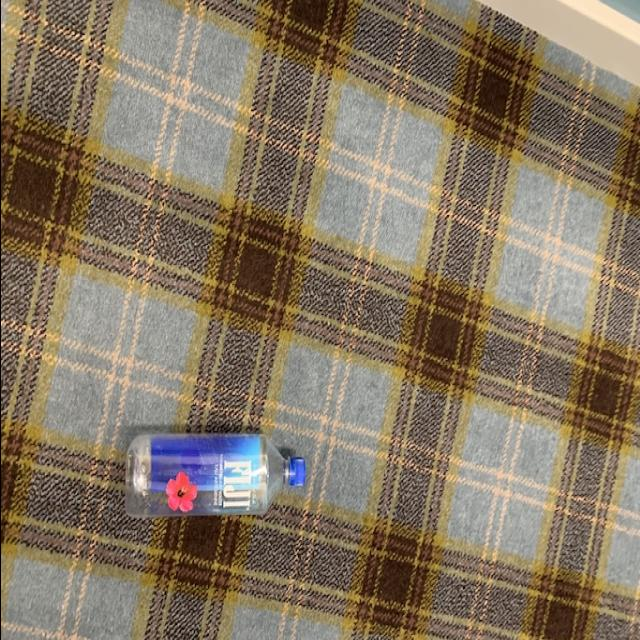litter: (117, 428, 309, 522)
